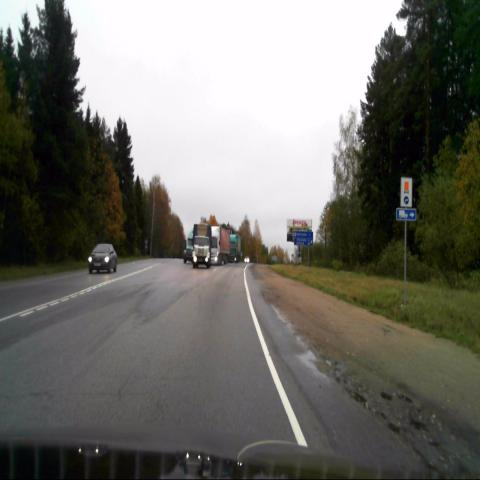4_8_3: (401, 179, 412, 207)
6_15_2: (396, 209, 416, 220)
